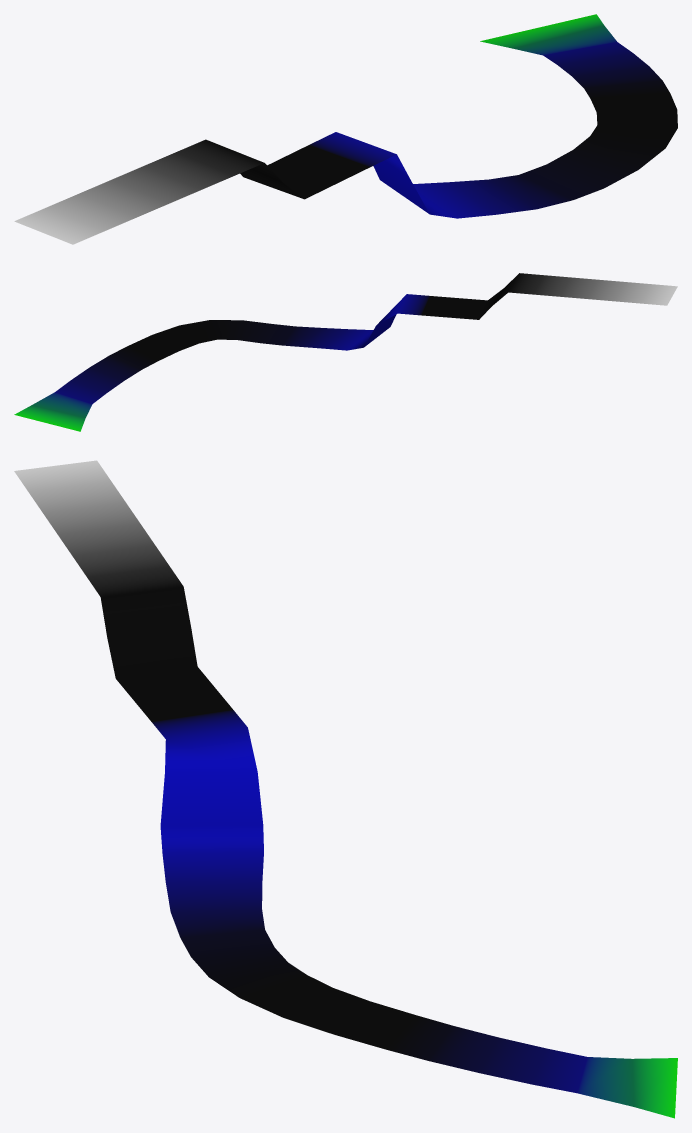
File: XF_RiverMesh (Spline tool not included).fbx
3 renders of one model, top to bottom at view 1: azimuth 30°, elevation 25°; view 2: azimuth 150°, elevation 25°; view 3: azimuth 270°, elevation 25°, orthographic. The views are drawn at different scales.
Visible parts, largest first — view 1: XF_RiverMesh__Spline_tool_not_included_; view 2: XF_RiverMesh__Spline_tool_not_included_; view 3: XF_RiverMesh__Spline_tool_not_included_.
Part boxes in pixels (box(x1,y1,x2,y2)): XF_RiverMesh__Spline_tool_not_included_: box(14, 14, 677, 244); XF_RiverMesh__Spline_tool_not_included_: box(14, 273, 677, 431); XF_RiverMesh__Spline_tool_not_included_: box(14, 460, 677, 1118).
Bounding box in the file's own units: 10967 × 2434 × 6902.
